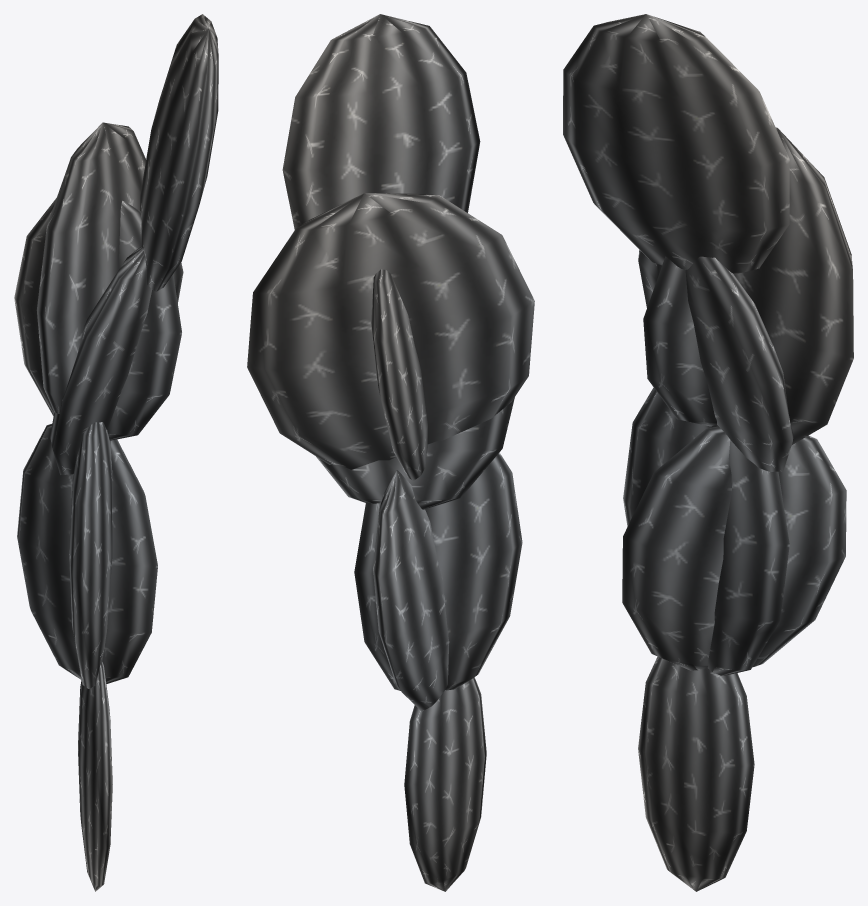
File: pads_l0.gltf
3 views of the same model, side by side, from view 1: azimuth 30°, elevation 25°; view 2: azimuth 150°, elevation 25°; view 3: azimuth 270°, elevation 25° (orthographic). The views are drawn at different scales.
Parts seen in each view (by area): view 1: pads_l0; view 2: pads_l0; view 3: pads_l0.
Part boxes in pixels (box(x1,y1,x2,y2)): pads_l0: box(14, 14, 218, 891); pads_l0: box(247, 14, 534, 891); pads_l0: box(563, 14, 853, 891).
Size of the model in its own units: 0.7084 by 2.91 by 0.8285.
Materials: 1 (1 with a texture image).
